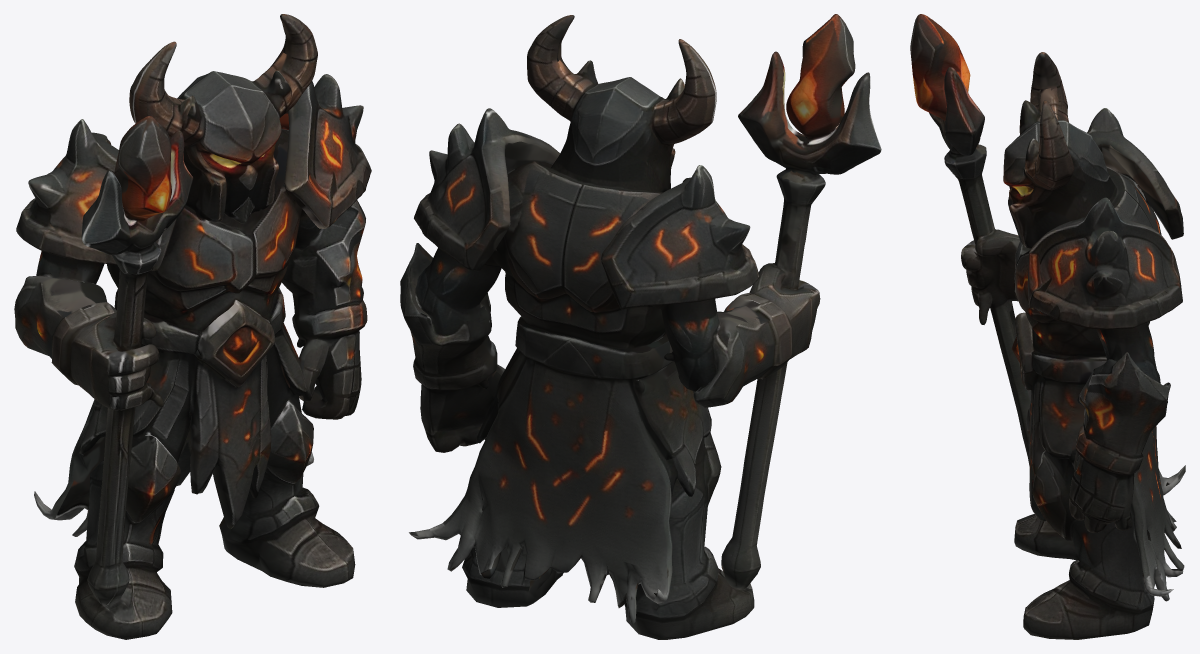
The model's file is hell-knight.glb.
The picture shows the model from 3 angles, left to right: view 1: azimuth 30°, elevation 25°; view 2: azimuth 150°, elevation 25°; view 3: azimuth 270°, elevation 25°; orthographic projection. The views are drawn at different scales.
Visible parts, largest first — view 1: Hell Knight; view 2: Hell Knight; view 3: Hell Knight.
Part boxes in pixels (x1,y1,x2,y2): Hell Knight: (14,14,371,639); Hell Knight: (400,14,881,639); Hell Knight: (910,14,1185,639).
Bounding box in the file's own units: 1.4 × 2 × 0.9789.
1 material, 1 textured.
